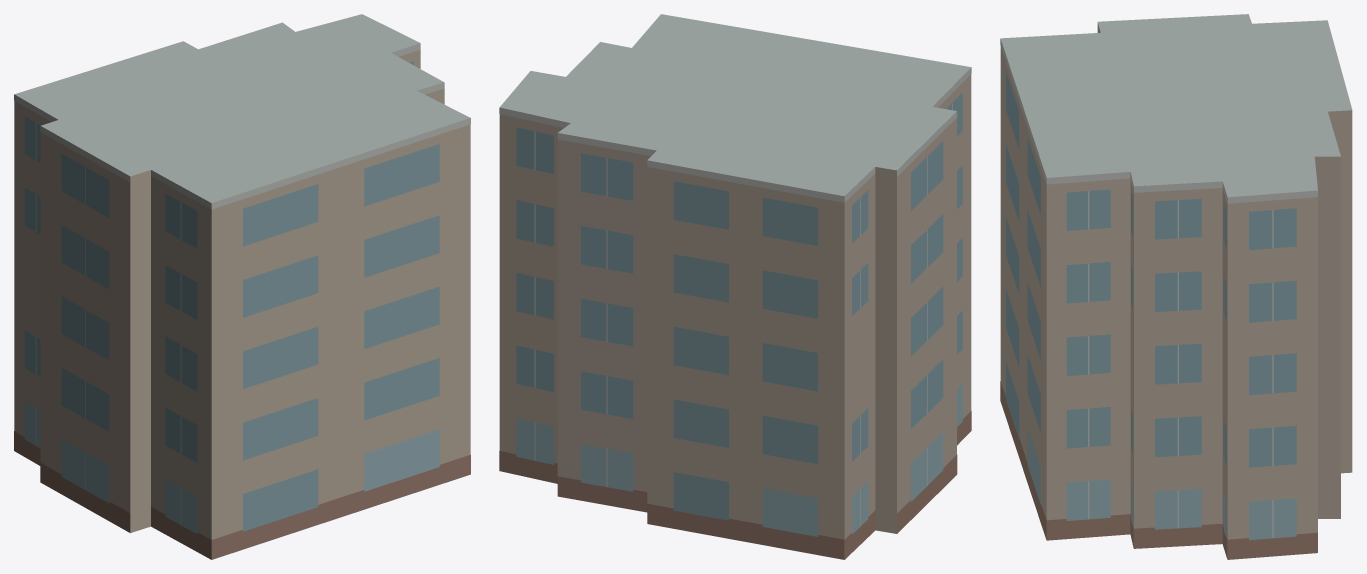
The model's file is survey-upis-32996068.glb.
3 renders of one model, left to right at view 1: azimuth 30°, elevation 25°; view 2: azimuth 150°, elevation 25°; view 3: azimuth 270°, elevation 25°, orthographic.
Parts seen in each view (by area): view 1: survey-upis-32996068.tmp; view 2: survey-upis-32996068.tmp; view 3: survey-upis-32996068.tmp.
Boxes of the visible parts, bbox=[...] form: survey-upis-32996068.tmp: bbox=[14, 14, 470, 559]; survey-upis-32996068.tmp: bbox=[499, 14, 971, 559]; survey-upis-32996068.tmp: bbox=[1000, 14, 1352, 559].
Size of the model in its own units: 14.77 by 13.6 by 11.98.
